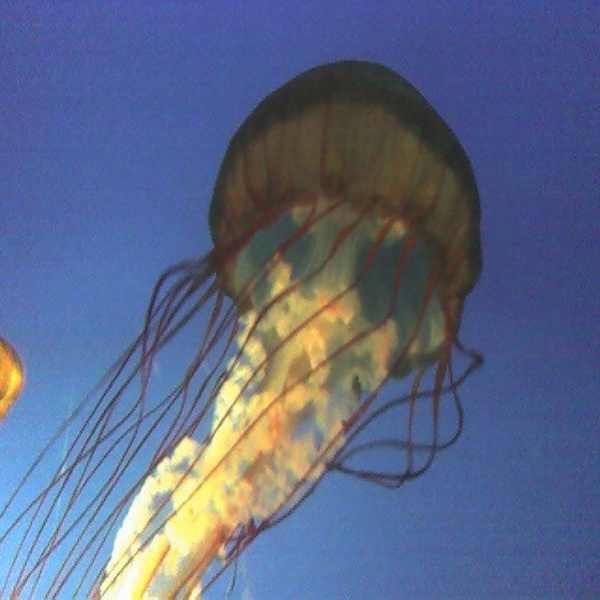Jellyfish: (0, 55, 485, 598)
